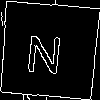N: (24, 24, 65, 74)
